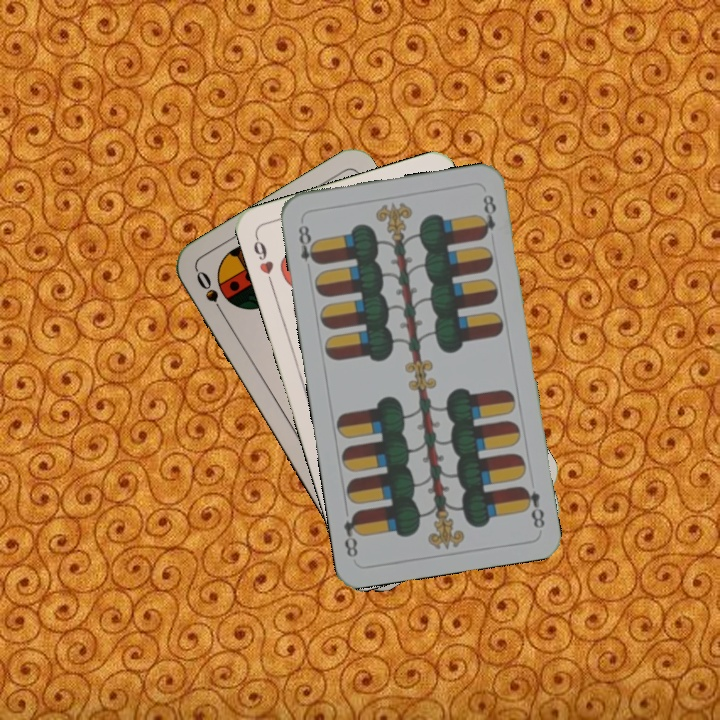E8: (294, 221, 322, 276), (518, 482, 548, 531)
H9: (249, 231, 277, 289)
SO: (192, 266, 229, 321)
